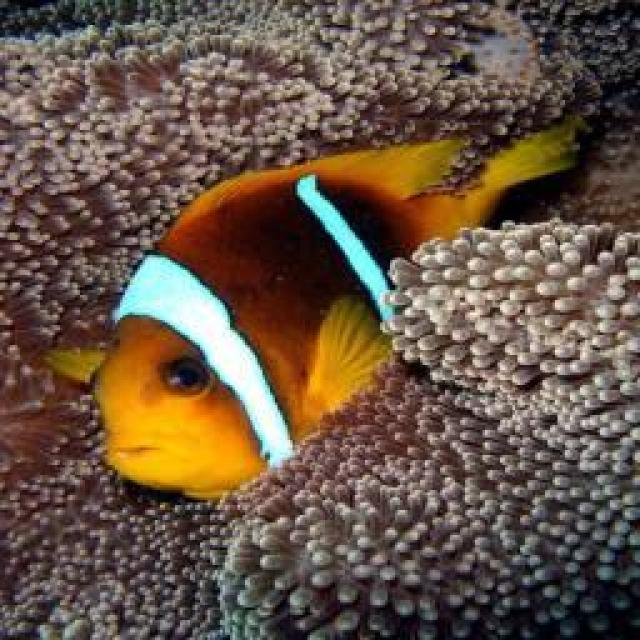fish: (45, 132, 575, 502)
reefs: (2, 0, 638, 638)
